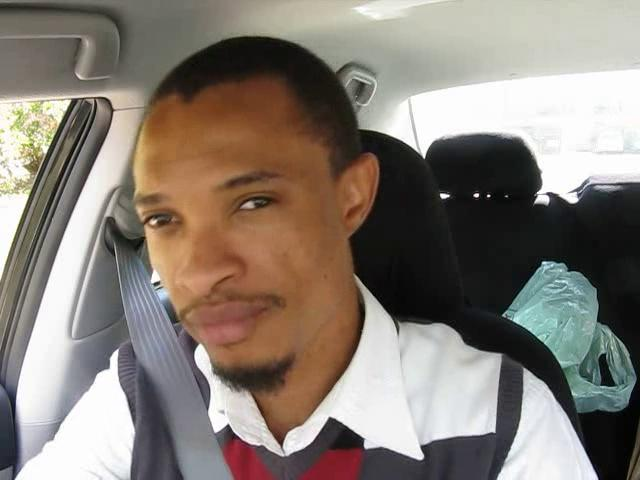no_yawn: (181, 287, 294, 347)
open_eyeL: (133, 199, 191, 240)
open_eyeR: (216, 183, 290, 230)
